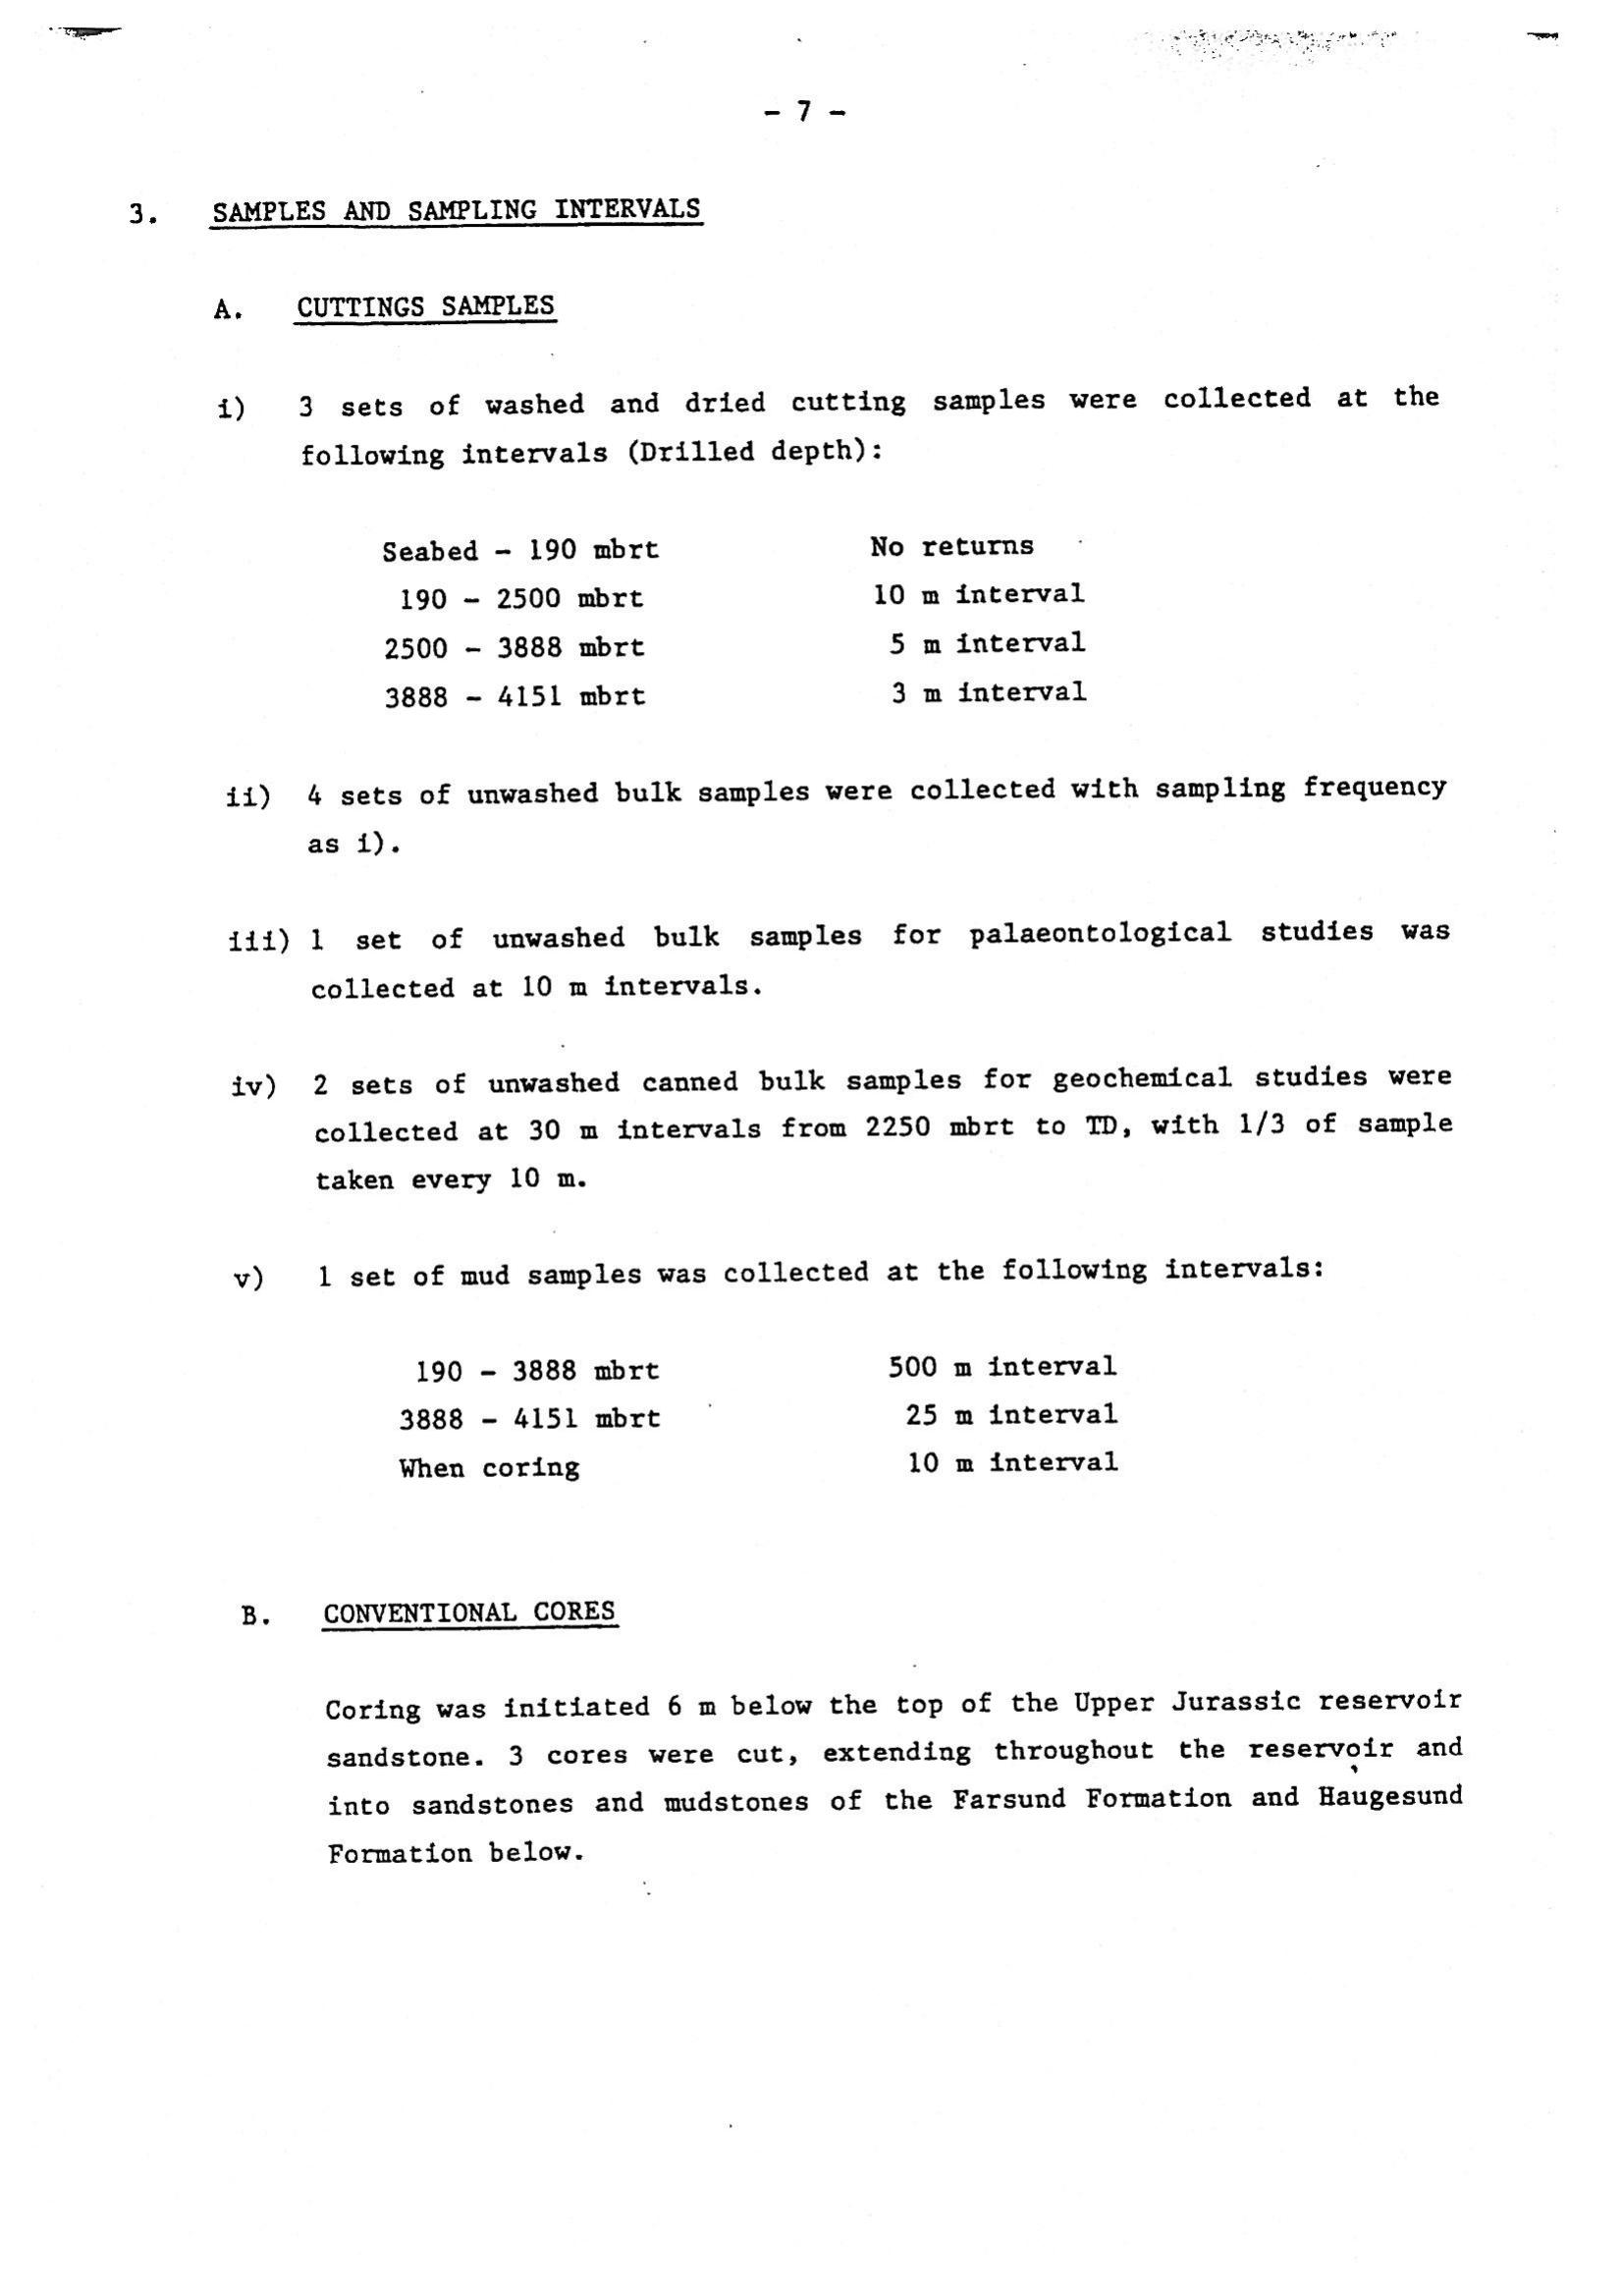text: (97, 165, 1504, 1535), (151, 1563, 1509, 1952)
